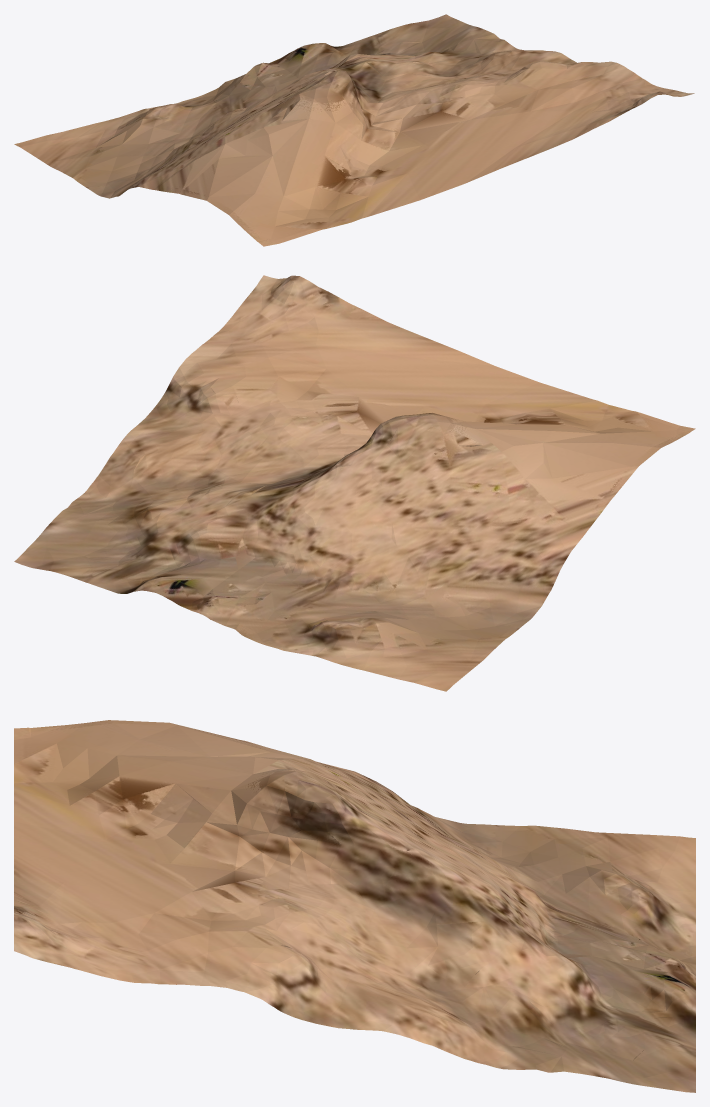
3 renders of one model, top to bottom at view 1: azimuth 30°, elevation 25°; view 2: azimuth 150°, elevation 25°; view 3: azimuth 270°, elevation 25°, orthographic. The views are drawn at different scales.
Bounding box in the file's own units: 2.09 × 0.6291 × 2.09.
Materials: 2 (2 with a texture image).
